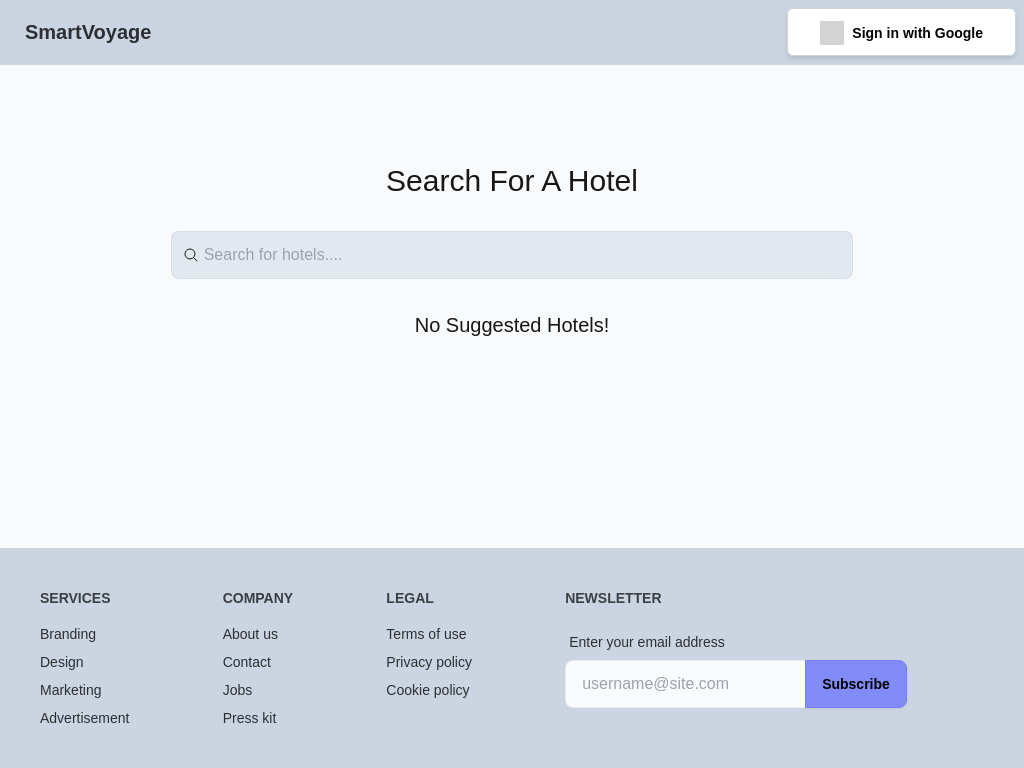
Test: Hotel search fails › handles case with no results (Australia)
The image size is (1024, 768).
Type "australia" into the field with id "search".
click(513, 255); type("australia")  # box 171,231 -> 854,279
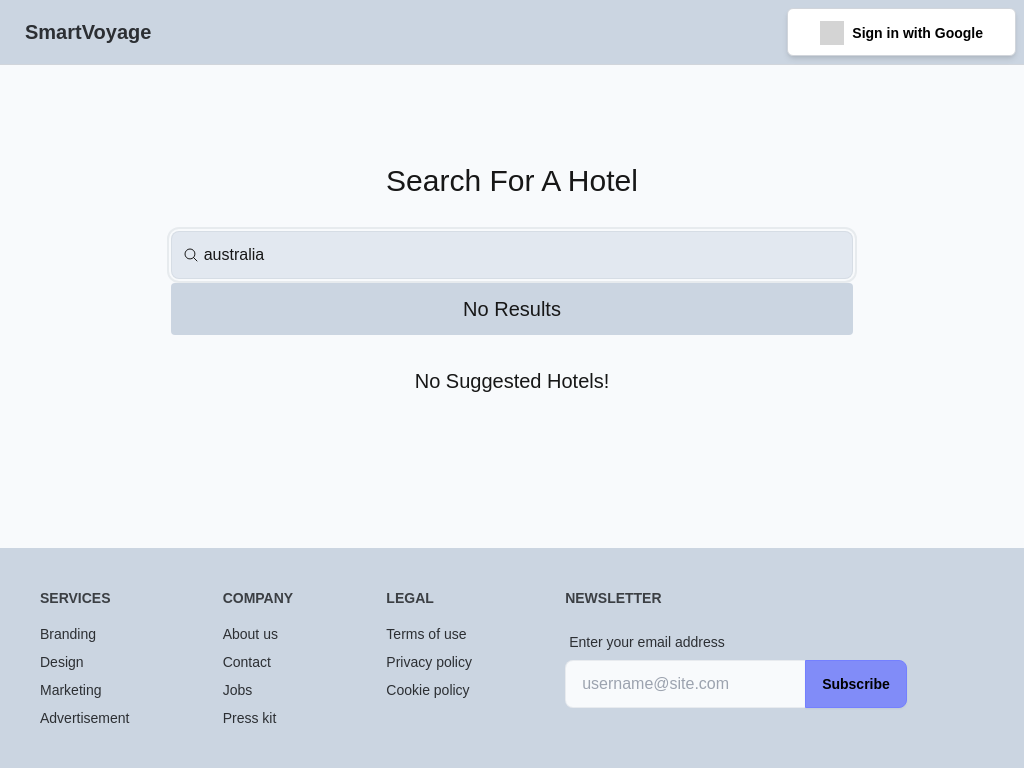
Check: the list with test id "search-options" is shown, box 171,283 -> 854,335
Check: the text "No Results" is shown, box 463,298 -> 561,320
